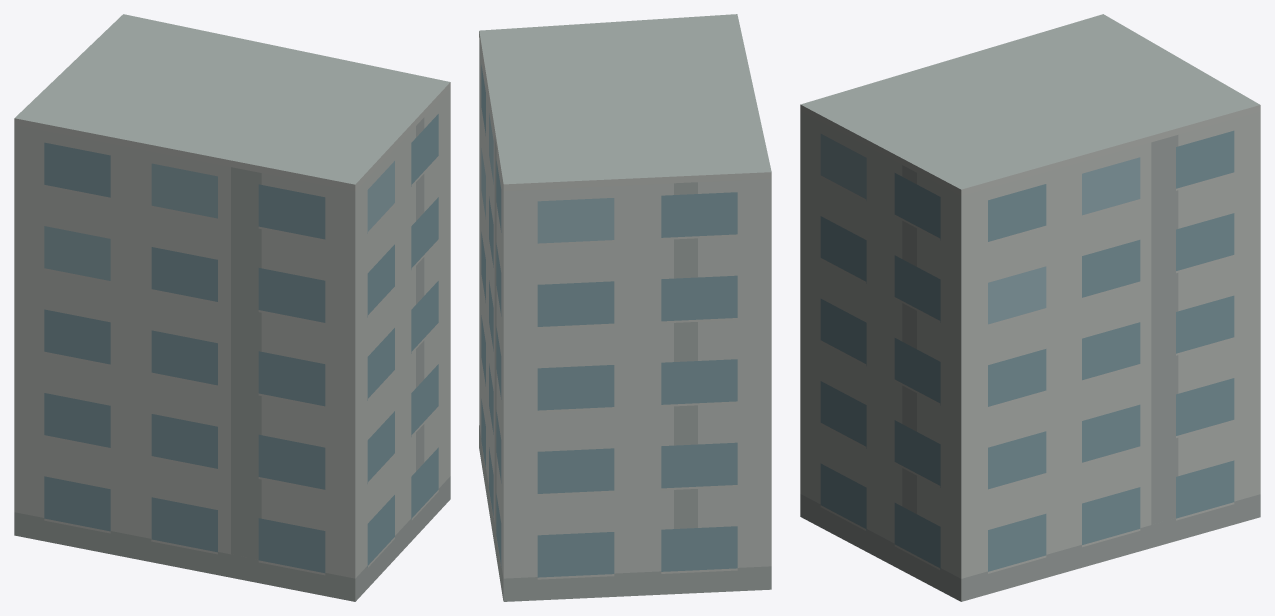
File: survey-upis-32777024.glb
3 renders of one model, left to right at view 1: azimuth 30°, elevation 25°; view 2: azimuth 150°, elevation 25°; view 3: azimuth 270°, elevation 25°, orthographic.
Visible parts, largest first — view 1: survey-upis-32777024.tmp; view 2: survey-upis-32777024.tmp; view 3: survey-upis-32777024.tmp.
Boxes of the visible parts, x1,y1,x2,y2 form: survey-upis-32777024.tmp: [14, 14, 450, 601]; survey-upis-32777024.tmp: [479, 14, 771, 601]; survey-upis-32777024.tmp: [800, 14, 1260, 601].
Bounding box in the file's own units: 13.94 × 15.25 × 15.44.
